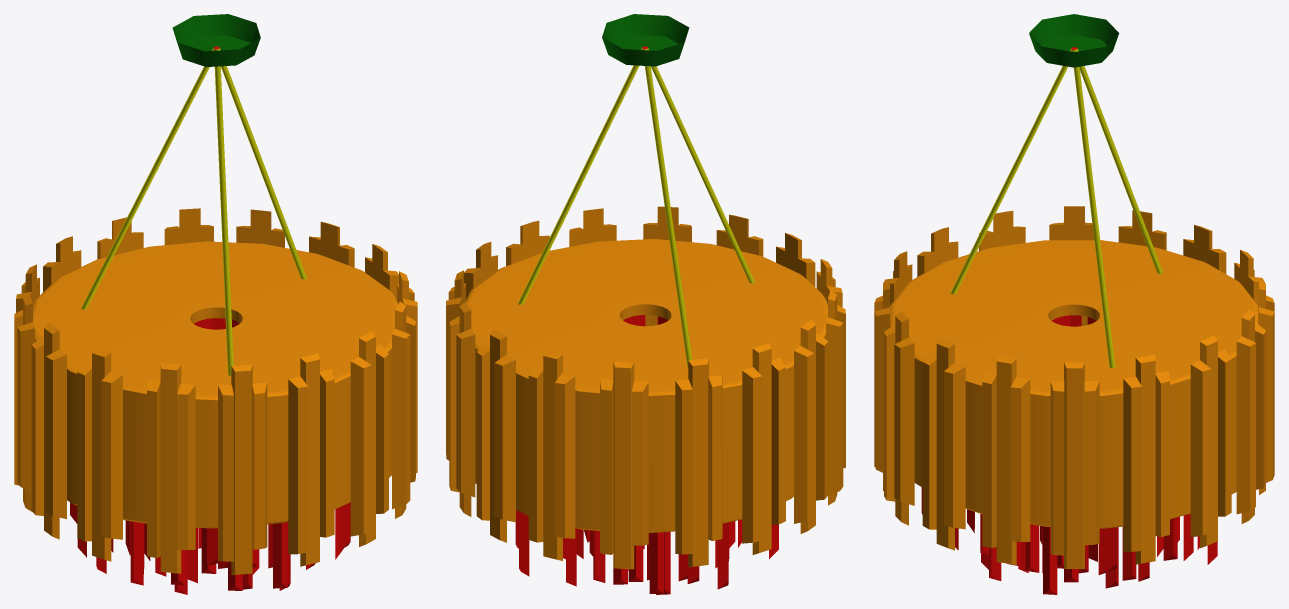
File: LR_Chandelier.fbx
3 views of the same model, side by side, from view 1: azimuth 30°, elevation 25°; view 2: azimuth 150°, elevation 25°; view 3: azimuth 270°, elevation 25° (orthographic).
Parts seen in each view (by area): view 1: LR_Chandelier; view 2: LR_Chandelier; view 3: LR_Chandelier.
Boxes of the visible parts, bbox=[...] form: LR_Chandelier: bbox=[14, 14, 417, 594]; LR_Chandelier: bbox=[446, 14, 845, 594]; LR_Chandelier: bbox=[874, 14, 1274, 594].
Bounding box in the file's own units: 106 × 156 × 106.
